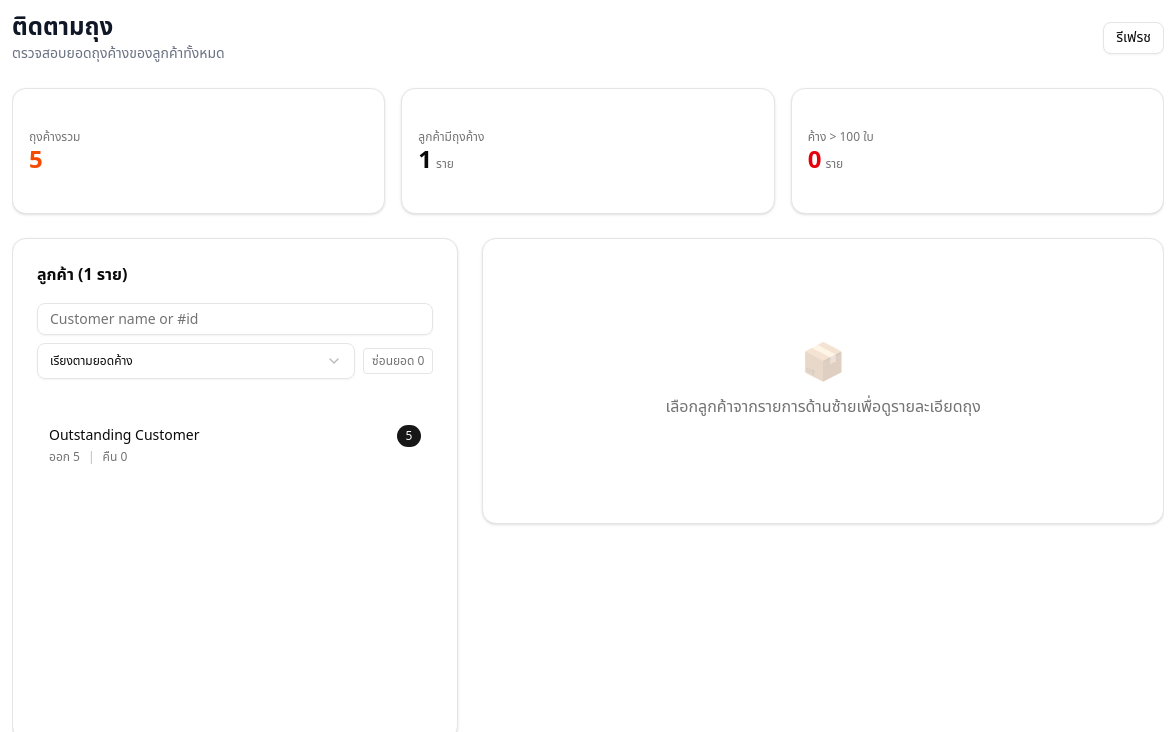
Test case: bags page search › shows Bangkok transaction time and links bill rows to transaction details
Click the text "Outstanding Customer".
click(124, 436)  # box [49, 426, 200, 446]
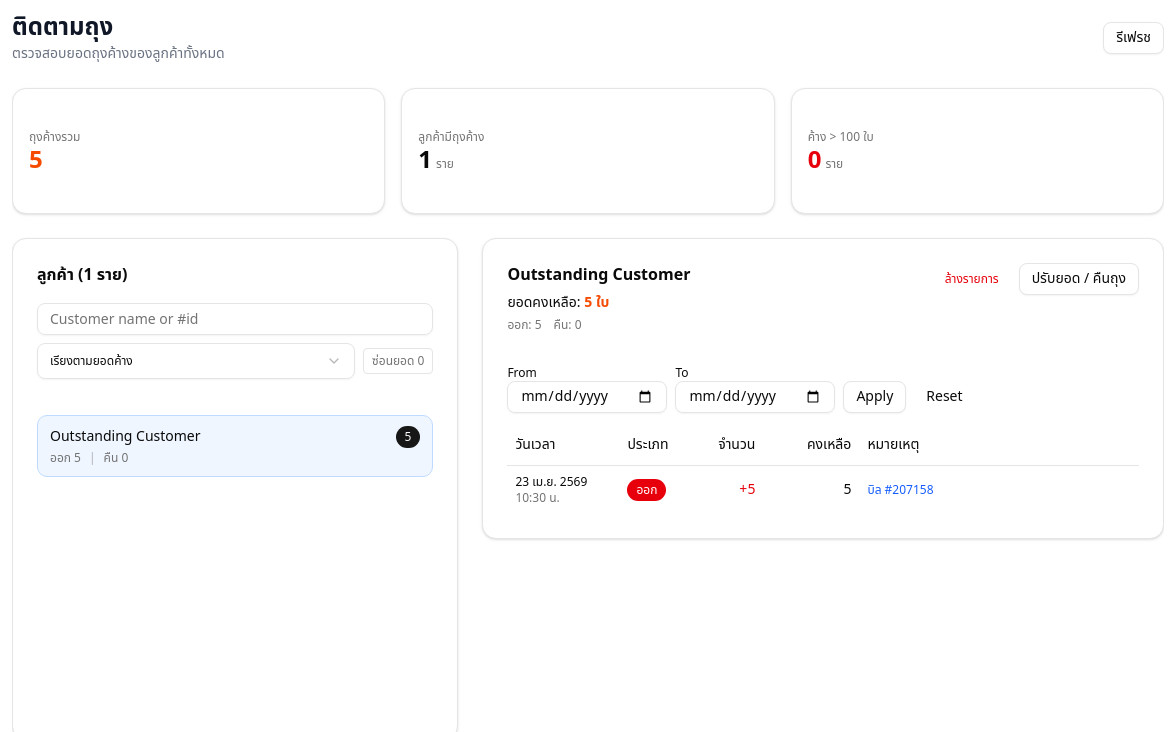
Now the text "10:30 น." is shown, box [515, 488, 560, 506]
